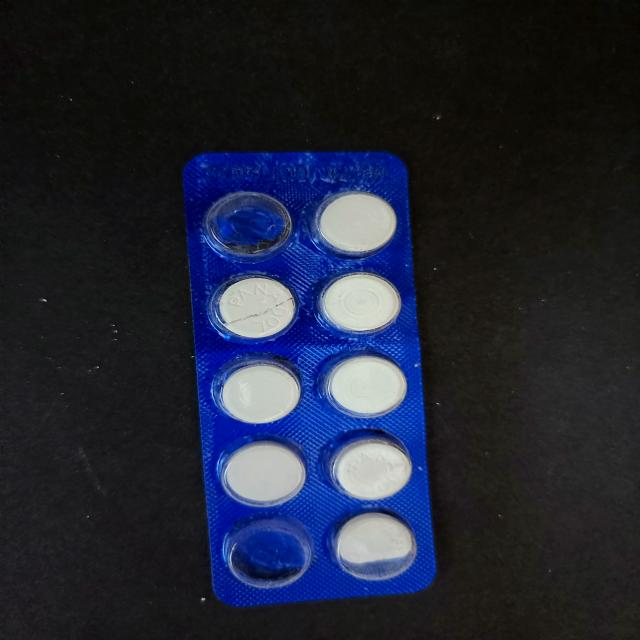defect: (220, 515, 318, 592), (329, 508, 422, 584), (202, 188, 294, 263), (206, 272, 301, 344)
